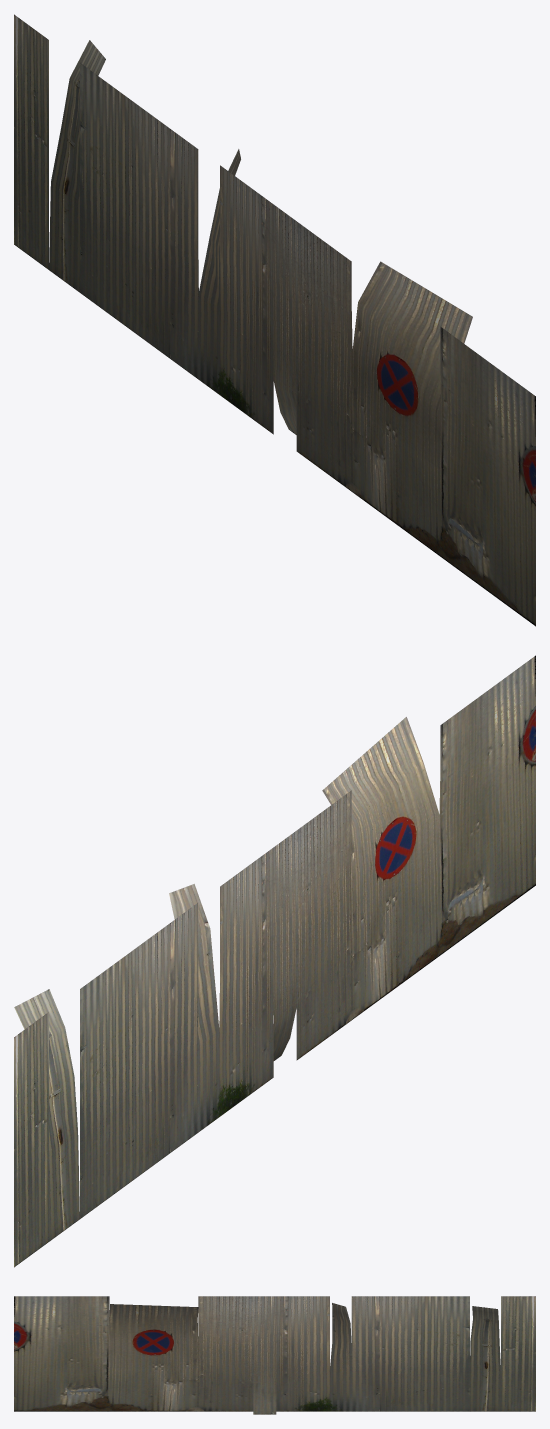
3 views of the same model, one above another, from view 1: azimuth 30°, elevation 25°; view 2: azimuth 150°, elevation 25°; view 3: azimuth 270°, elevation 25° (orthographic). The views are drawn at different scales.
Parts seen in each view (by area): view 1: polySurface23; view 2: polySurface23; view 3: polySurface23.
Boxes of the visible parts, left/top/right/bottom form: polySurface23: left=14, top=14, right=535, bottom=626; polySurface23: left=14, top=655, right=535, bottom=1267; polySurface23: left=14, top=1296, right=535, bottom=1414.
Bounding box in the file's own units: 0.1718 × 1 × 4.11.
1 material, 1 textured.
